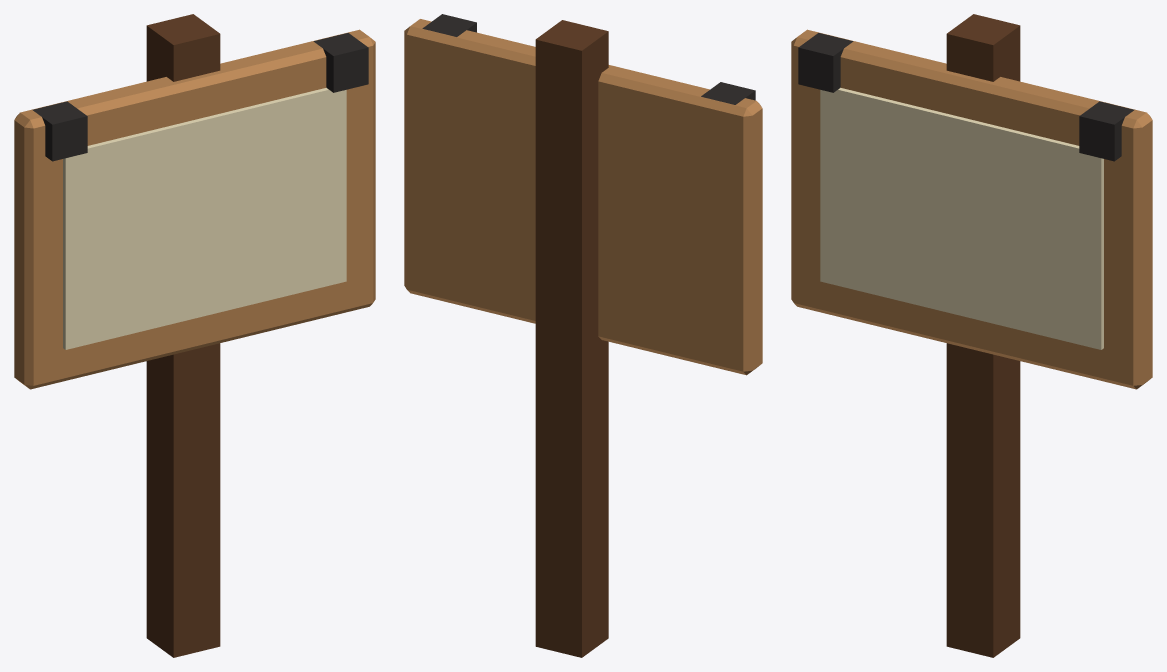
The model's file is SafeDigitSign.fbx.
3 renders of one model, left to right at view 1: azimuth 30°, elevation 25°; view 2: azimuth 150°, elevation 25°; view 3: azimuth 330°, elevation 25°, orthographic.
Visible parts, largest first — view 1: SafeDigitSign; view 2: SafeDigitSign; view 3: SafeDigitSign.
Part boxes in pixels (x1=…): SafeDigitSign: x1=14, y1=14, x2=375, y2=657; SafeDigitSign: x1=404, y1=14, x2=762, y2=657; SafeDigitSign: x1=791, y1=14, x2=1152, y2=657.
Bounding box in the file's own units: 3 × 5 × 0.6.
